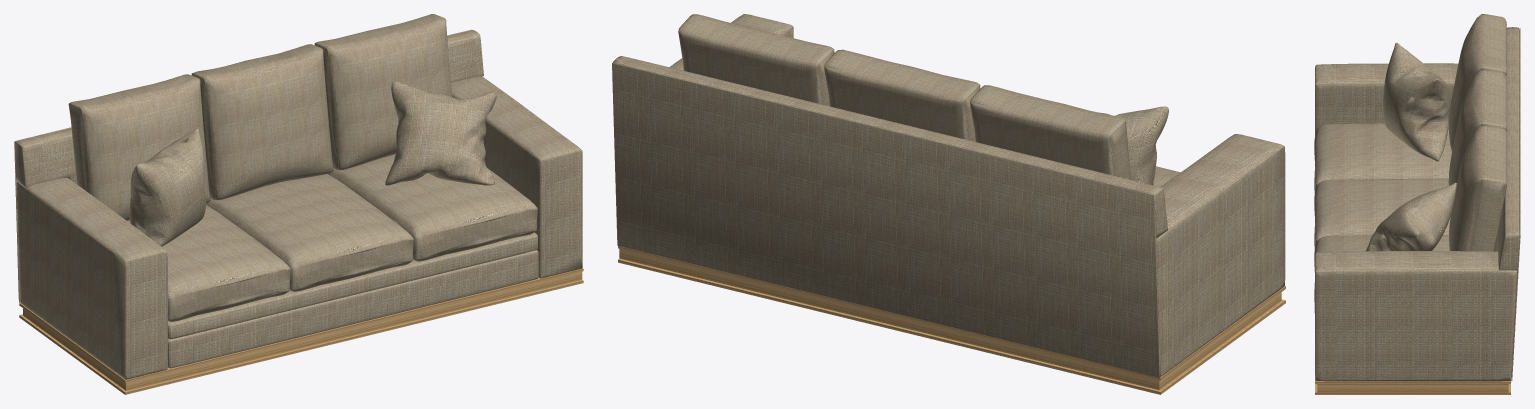
The model's file is burtonjames_536sofa.gltf.
The picture shows the model from 3 angles, left to right: view 1: azimuth 30°, elevation 25°; view 2: azimuth 150°, elevation 25°; view 3: azimuth 270°, elevation 25°; orthographic projection. The views are drawn at different scales.
Parts seen in each view (by area): view 1: burtonjames_536sofa; view 2: burtonjames_536sofa; view 3: burtonjames_536sofa.
Part boxes in pixels (x1,y1,x2,y2): burtonjames_536sofa: [14, 14, 583, 394]; burtonjames_536sofa: [612, 14, 1285, 394]; burtonjames_536sofa: [1314, 14, 1520, 394].
Bounding box in the file's own units: 2540 × 1114 × 1069.
Materials: 2 (2 with a texture image).
